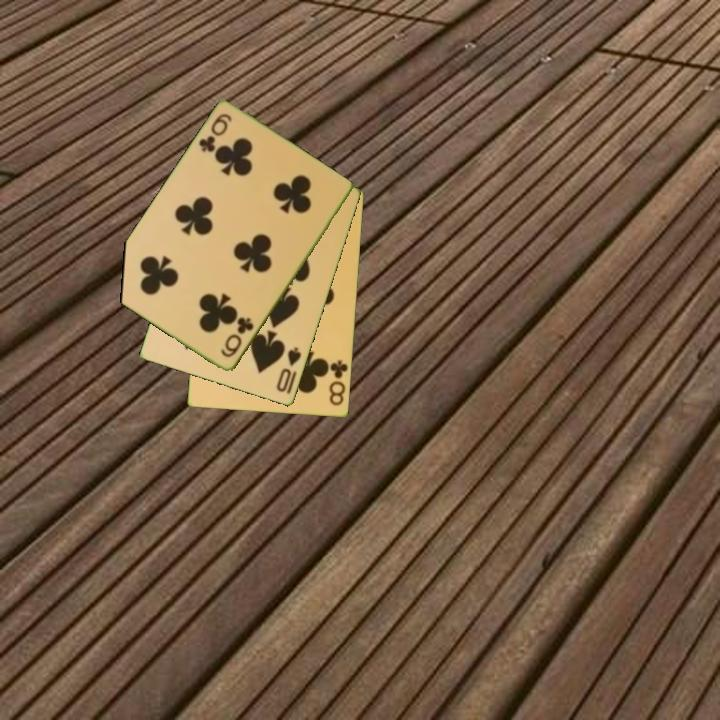10s: (273, 344, 304, 395)
6c: (217, 314, 257, 361), (195, 110, 235, 156)
8c: (325, 357, 350, 409)
